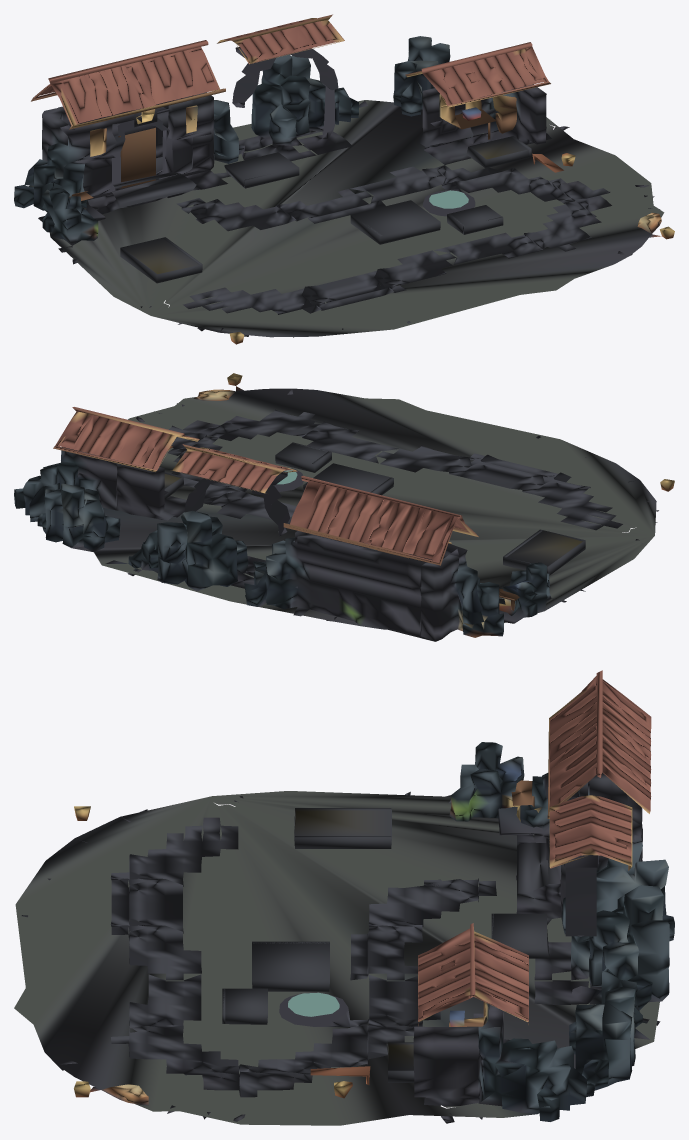
The model's file is vulkara.far.glb.
The picture shows the model from 3 angles, top to bottom: view 1: azimuth 30°, elevation 25°; view 2: azimuth 150°, elevation 25°; view 3: azimuth 270°, elevation 25°; orthographic projection. The views are drawn at different scales.
Visible parts, largest first — view 1: merged-masonry-botany, merged-timber-ceramic, merged-opaque-water; view 2: merged-masonry-botany, merged-timber-ceramic; view 3: merged-masonry-botany, merged-timber-ceramic, merged-opaque-water.
Boxes of the visible parts, <box> form: merged-masonry-botany: <box>14,36,674,344</box>; merged-timber-ceramic: <box>31,14,550,200</box>; merged-opaque-water: <box>429,190,468,208</box>; merged-masonry-botany: <box>14,373,674,641</box>; merged-timber-ceramic: <box>53,407,519,610</box>; merged-masonry-botany: <box>14,742,674,1125</box>; merged-timber-ceramic: <box>418,670,651,1026</box>; merged-opaque-water: <box>288,992,339,1016</box>.
Size of the model in its own units: 24.32 by 5.3 by 20.28.
